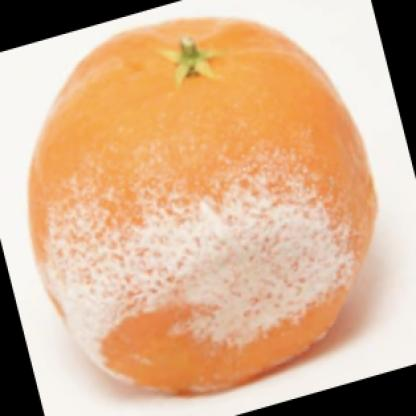rotten: (29, 20, 379, 392)
